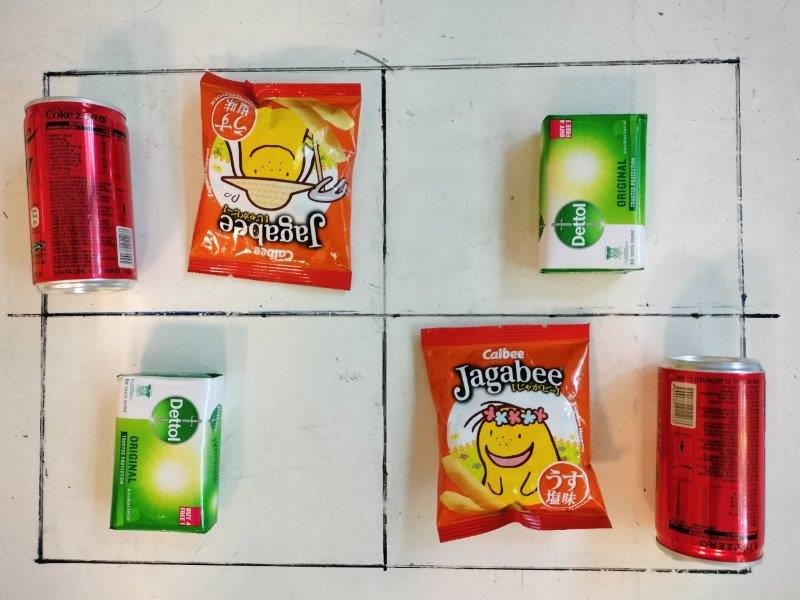Coke: (655, 354, 767, 569), (24, 97, 138, 297)
Dettol: (109, 373, 222, 537), (537, 113, 646, 276)
Jagabee: (423, 323, 612, 542), (185, 72, 359, 293)
